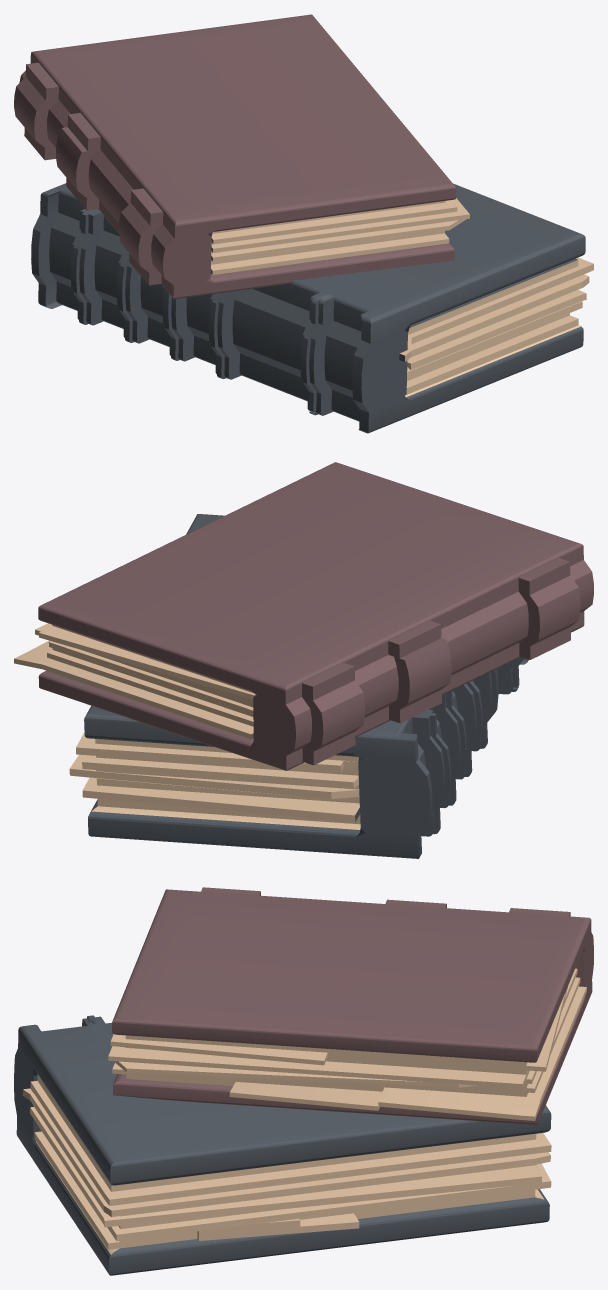
The model's file is TomesMultiTwo.fbx.
3 views of the same model, one above another, from view 1: azimuth 30°, elevation 25°; view 2: azimuth 150°, elevation 25°; view 3: azimuth 270°, elevation 25° (orthographic). The views are drawn at different scales.
Visible parts, largest first — view 1: StackedTwoBooks; view 2: StackedTwoBooks; view 3: StackedTwoBooks.
Boxes of the visible parts, left/top/right/bottom form: StackedTwoBooks: left=14, top=14, right=593, bottom=433; StackedTwoBooks: left=14, top=462, right=593, bottom=858; StackedTwoBooks: left=14, top=887, right=593, bottom=1275.
Bounding box in the file's own units: 36.23 × 17.22 × 43.86.
